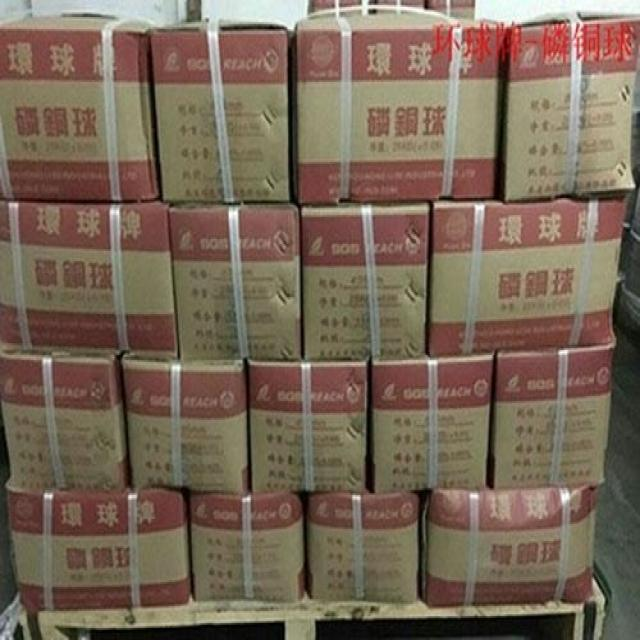box: (296, 12, 503, 207), (429, 195, 628, 358), (0, 12, 159, 201), (0, 198, 180, 360), (151, 15, 291, 203), (506, 10, 640, 203), (6, 488, 189, 613), (421, 483, 599, 604), (169, 203, 301, 362), (300, 205, 430, 360), (122, 358, 247, 498), (1, 350, 125, 490), (493, 343, 614, 486), (374, 353, 495, 492), (251, 362, 369, 497), (191, 497, 305, 602), (308, 495, 419, 601)
